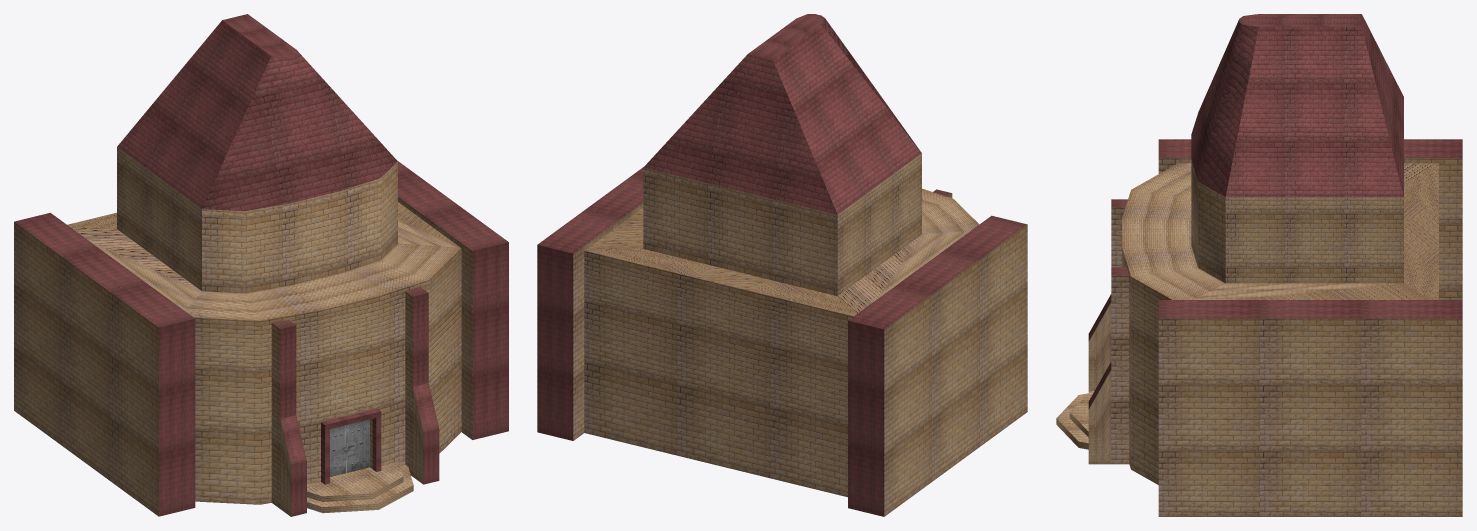
Rendered from Castle.FBX.
The picture shows the model from 3 angles, left to right: view 1: azimuth 30°, elevation 25°; view 2: azimuth 150°, elevation 25°; view 3: azimuth 270°, elevation 25°; orthographic projection. The views are drawn at different scales.
Parts seen in each view (by area): view 1: Castle; view 2: Castle; view 3: Castle.
Part boxes in pixels (box(x1,y1,x2,y2)): Castle: box(14, 14, 508, 516); Castle: box(537, 14, 1027, 516); Castle: box(1056, 14, 1462, 516).
Bounding box in the file's own units: 108 × 104 × 114.
3 materials, 3 textured.
